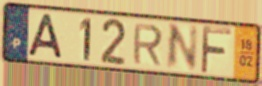1: (78, 17, 91, 62)
2: (100, 17, 128, 68)
A: (25, 13, 65, 61)
F: (199, 24, 234, 76)
N: (164, 22, 200, 72)
R: (131, 23, 165, 68)
